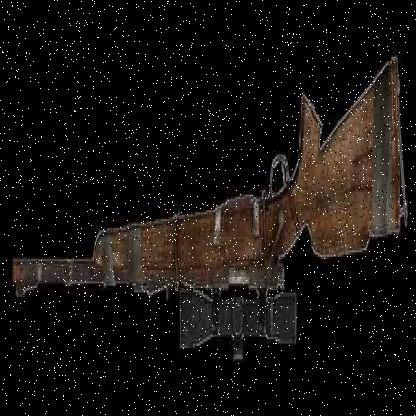rifle: (5, 17, 405, 402)
